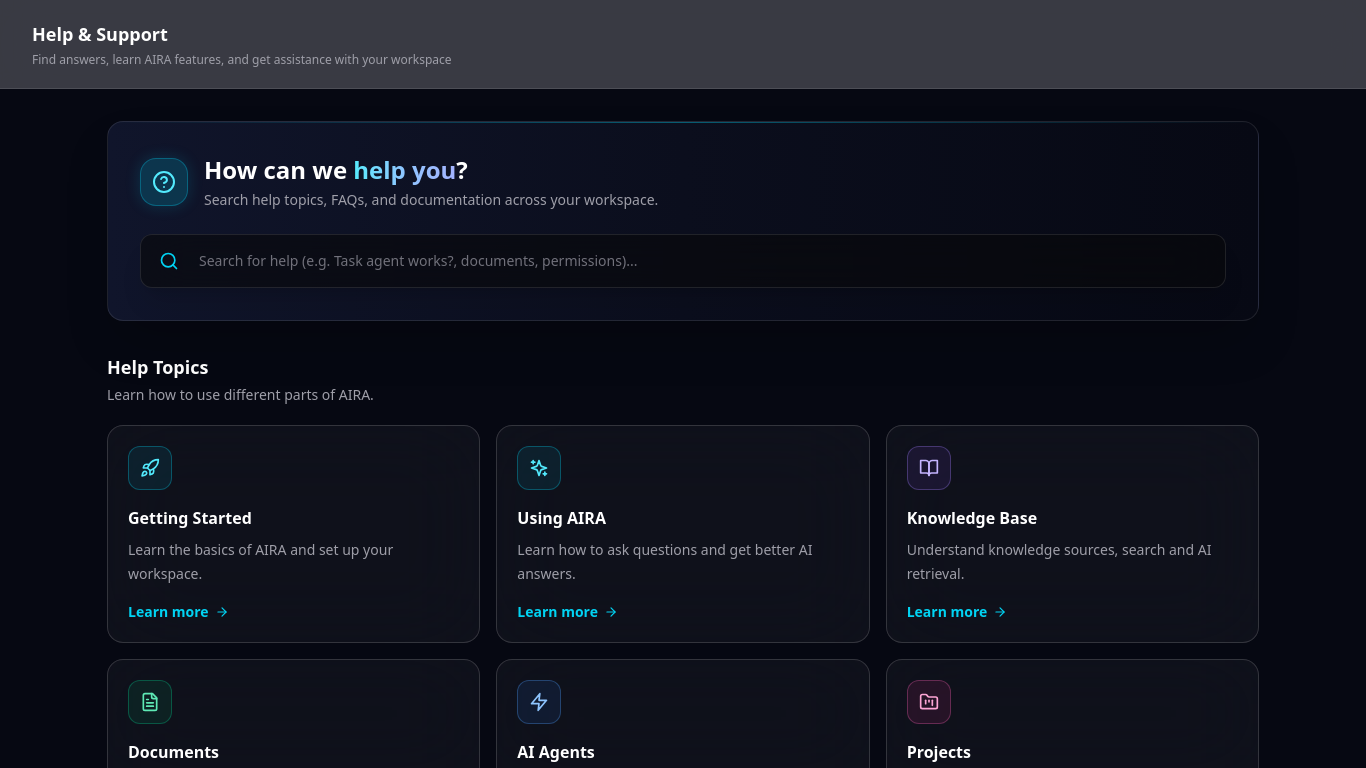
Scenario: HelpPage › Search Functionality › displays a helpful empty state when searching for a nonexistent term
Replace the text in the field named "Search help topics" with "nonexistenttopicxyz999". click: (703, 261)
box: [191,245,1215,277]
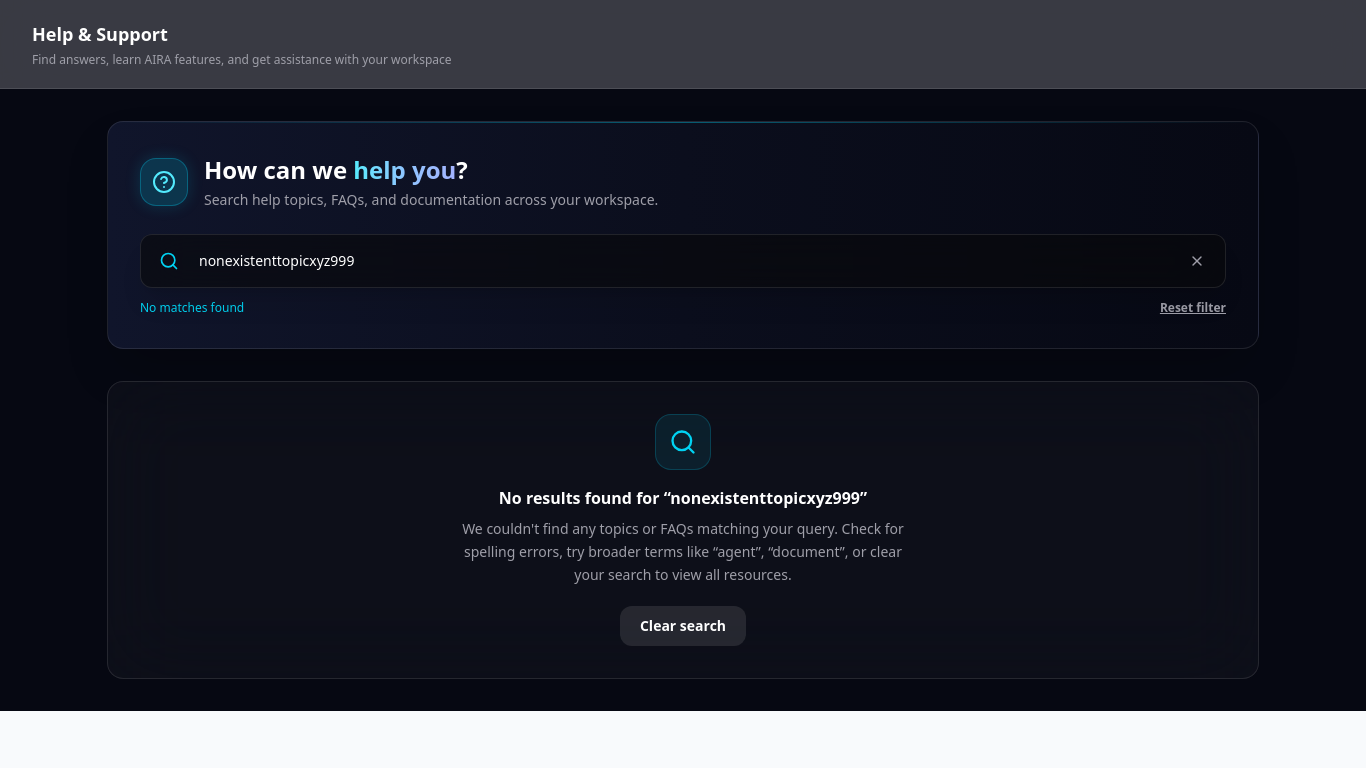
Now the heading "No results found for “nonexistenttopicxyz999”" is shown, box [499,487,867,509]
Now the button "Clear search" is shown, box [620,606,746,646]
Now the heading "Getting Started" is gone
